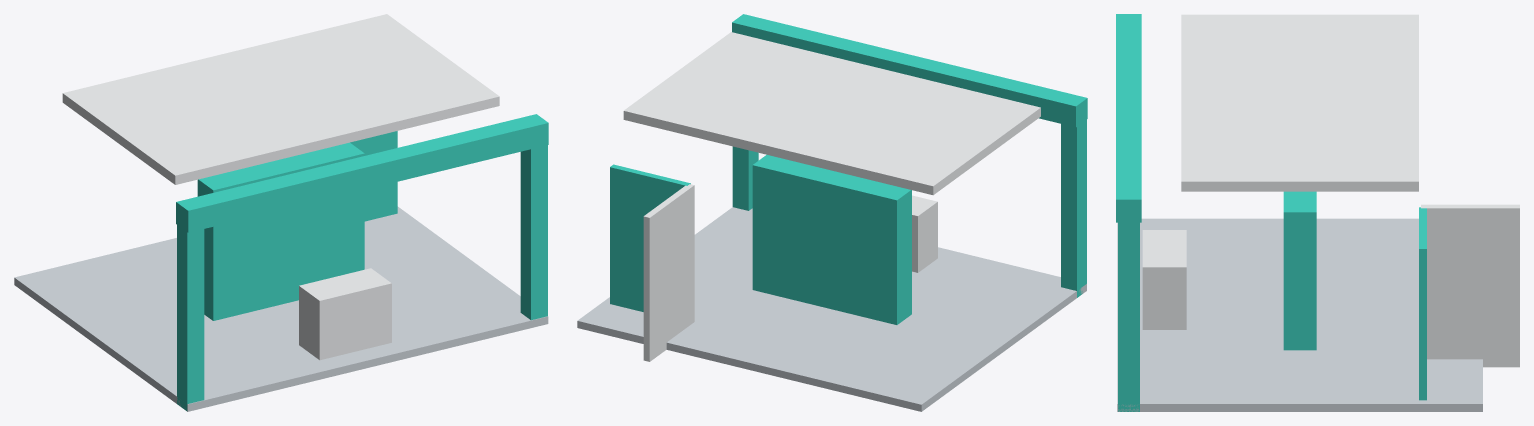
3 views of the same model, side by side, from view 1: azimuth 30°, elevation 25°; view 2: azimuth 150°, elevation 25°; view 3: azimuth 270°, elevation 25° (orthographic). The views are drawn at different scales.
Parts seen in each view (by area): view 1: Exhibition Booth Concept; view 2: Exhibition Booth Concept; view 3: Exhibition Booth Concept.
Part boxes in pixels (x1,y1,x2,y2): Exhibition Booth Concept: (14,14,548,411); Exhibition Booth Concept: (577,14,1087,411); Exhibition Booth Concept: (1116,14,1519,411).
Size of the model in its own units: 6 by 3.34 by 5.52.
